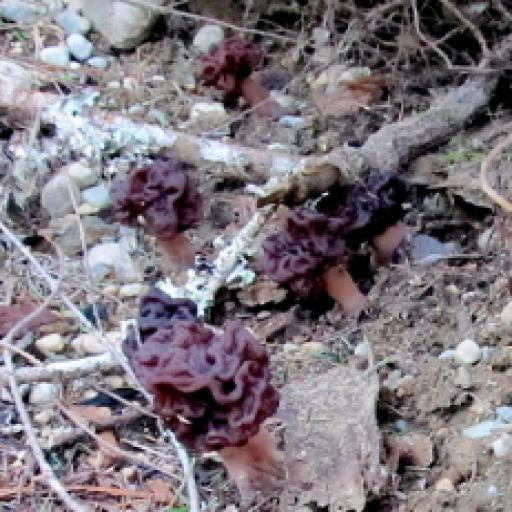mushroom: (88, 262, 339, 508), (248, 135, 429, 328)
